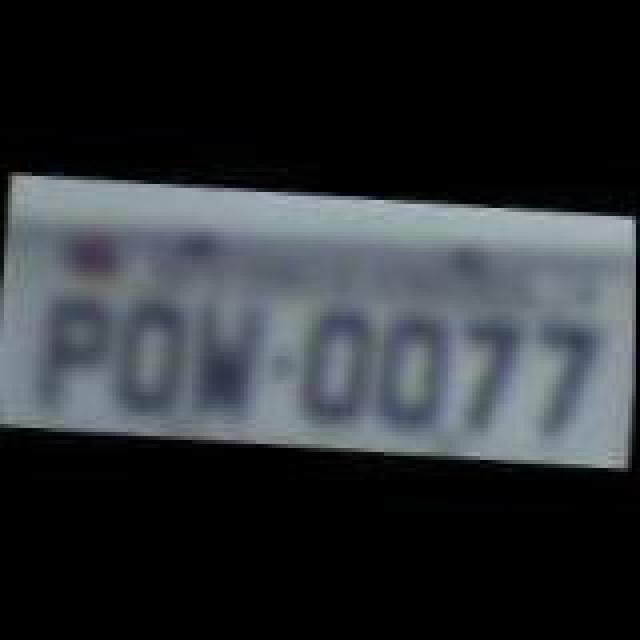7: (514, 318, 602, 450), (444, 310, 528, 438)
O: (104, 288, 192, 412), (372, 304, 456, 432), (292, 306, 376, 430)
P: (26, 284, 110, 412)
W: (184, 288, 276, 416)
